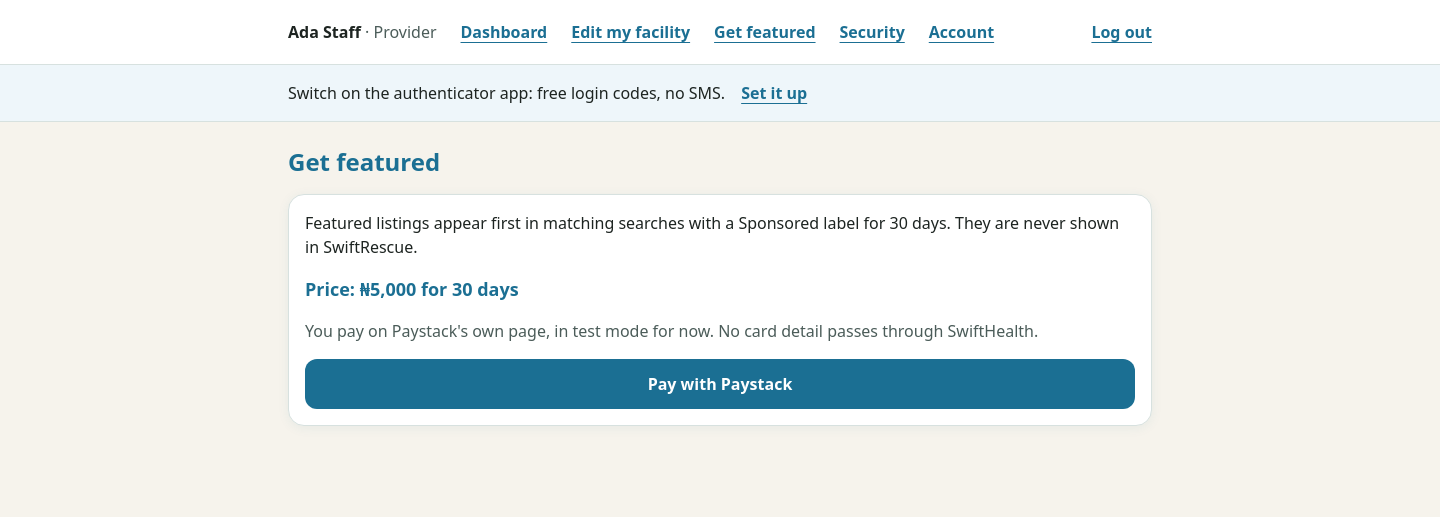
get featured (/provider/featured) › shows the API's sentence for an answer 503: Live payments are switched off.
Check: the heading "Get featured" is shown, box [288,145,440,178]
Click the button "Pay with Paystack": {"x": 720, "y": 384} [305,359,1135,409]
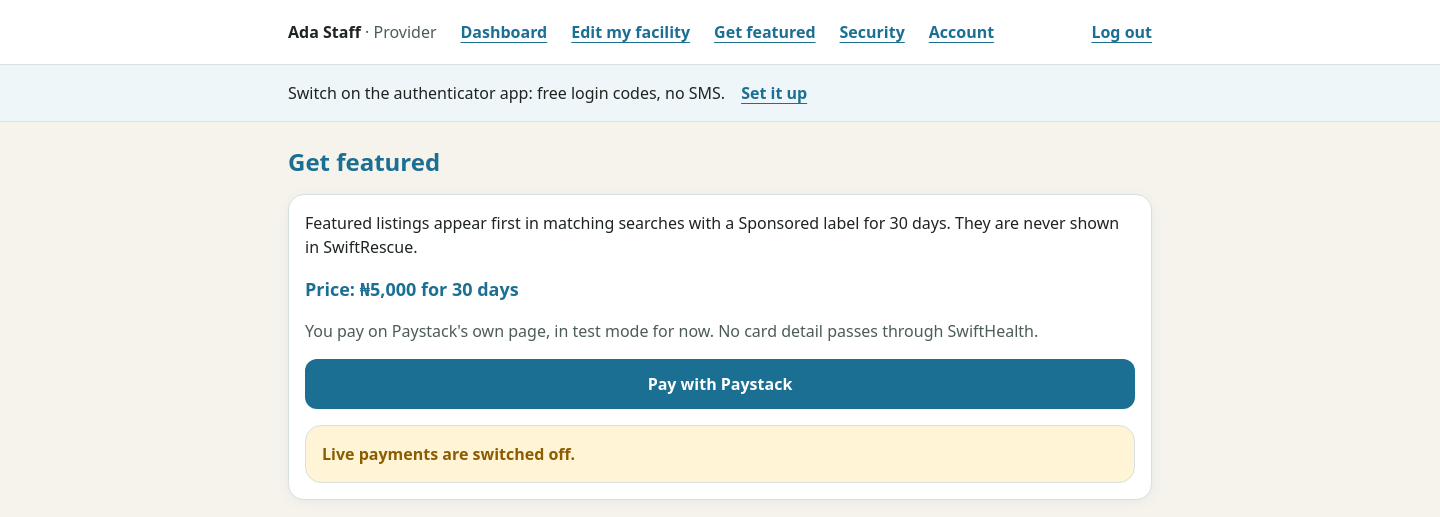
Check: the message reads "Live payments are switched off.", box [322,443,575,465]
